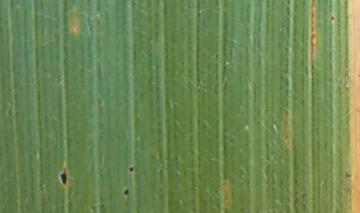tarspot: (58, 167, 70, 186), (121, 188, 131, 196), (344, 169, 351, 179), (8, 1, 16, 9), (329, 13, 334, 23), (128, 166, 133, 173)
